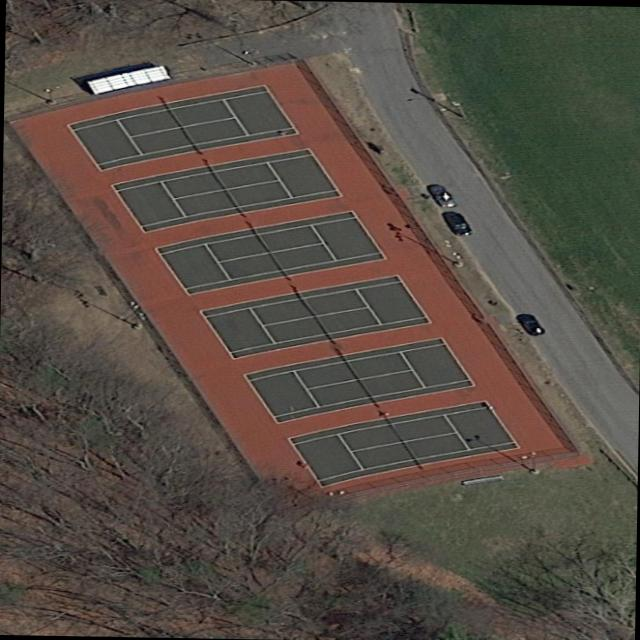small-vehicle: (511, 308, 551, 337), (440, 209, 477, 237), (424, 182, 459, 208)
